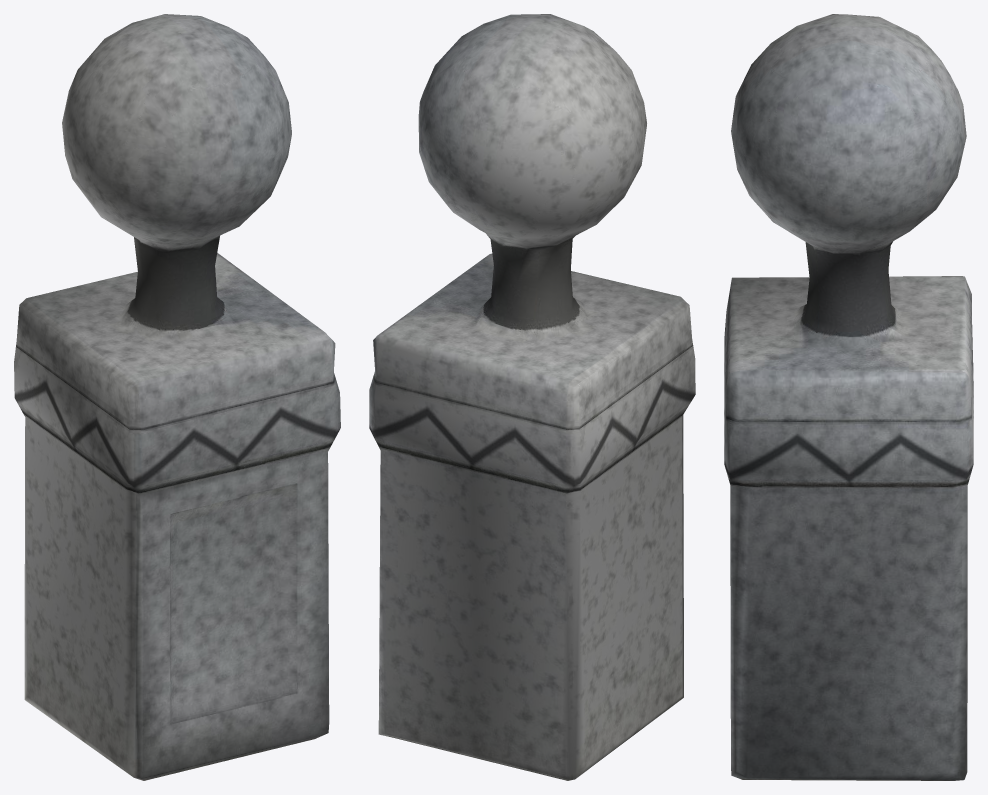
File: post_square_e.glb
3 renders of one model, left to right at view 1: azimuth 30°, elevation 25°; view 2: azimuth 150°, elevation 25°; view 3: azimuth 270°, elevation 25°, orthographic. The views are drawn at different scales.
Visible parts, largest first — view 1: post_square_e_lod0; view 2: post_square_e_lod0; view 3: post_square_e_lod0.
Boxes of the visible parts, left/top/right/bottom form: post_square_e_lod0: left=14, top=14, right=340, bottom=780; post_square_e_lod0: left=369, top=14, right=695, bottom=780; post_square_e_lod0: left=724, top=14, right=973, bottom=780.
Bounding box in the file's own units: 0.2837 × 0.8945 × 0.2839.
1 material, 1 textured.
